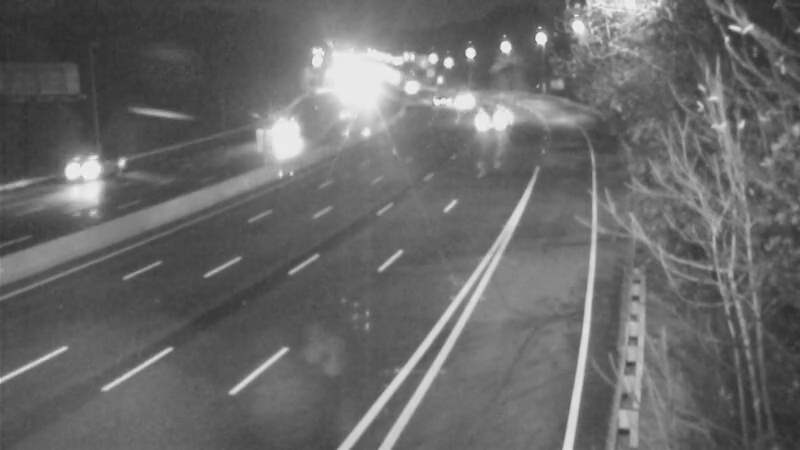vehicle: (39, 130, 119, 210), (433, 75, 483, 125), (461, 91, 511, 141), (259, 116, 309, 166)
